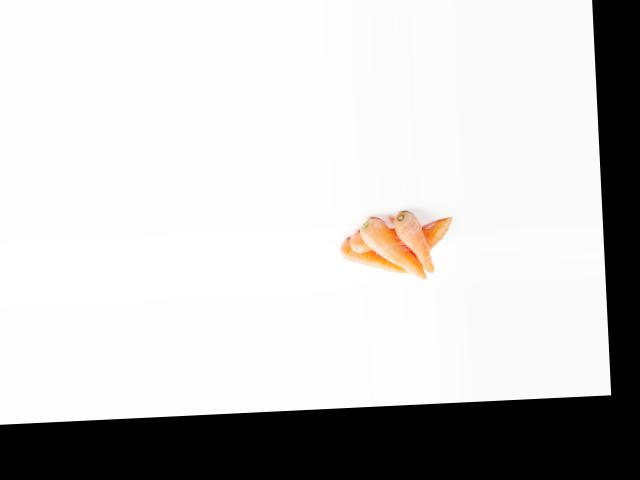carrot: (392, 208, 435, 273)
